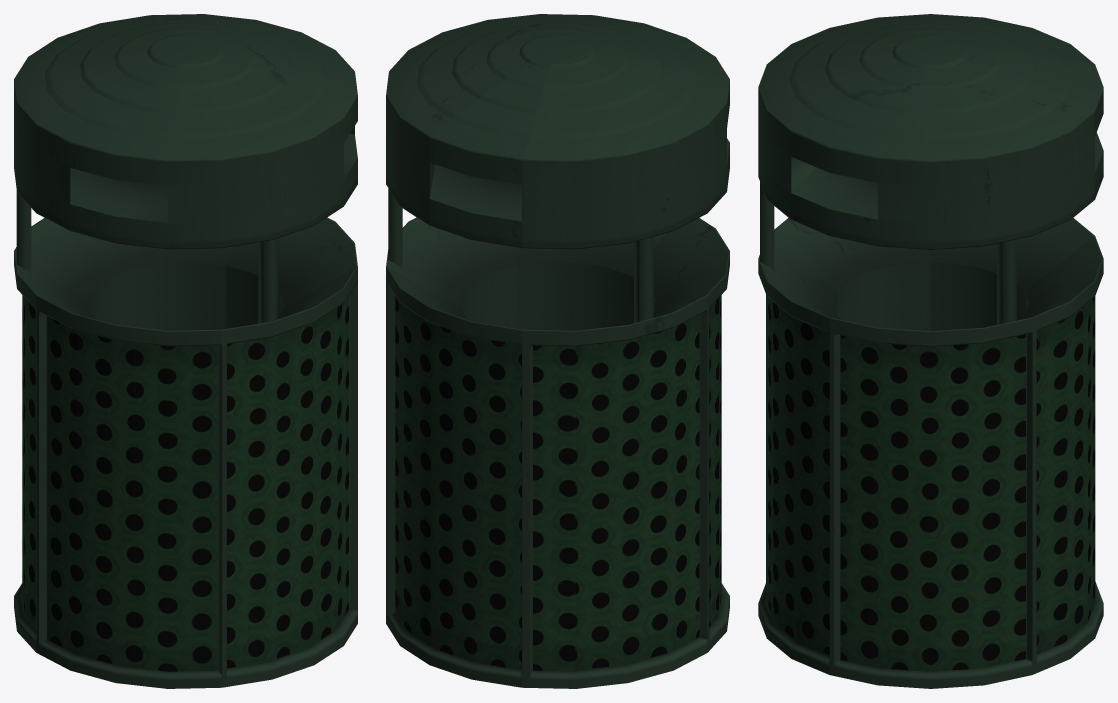
The model's file is TrashCan.fbx.
3 views of the same model, side by side, from view 1: azimuth 30°, elevation 25°; view 2: azimuth 150°, elevation 25°; view 3: azimuth 270°, elevation 25° (orthographic).
Parts seen in each view (by area): view 1: TrashCan; view 2: TrashCan; view 3: TrashCan.
Boxes of the visible parts, left/top/right/bottom form: TrashCan: left=14, top=14, right=357, bottom=688; TrashCan: left=386, top=14, right=729, bottom=688; TrashCan: left=758, top=14, right=1103, bottom=688.
Size of the model in its own units: 6 by 10.89 by 6.
Materials: 1 (1 with a texture image).
